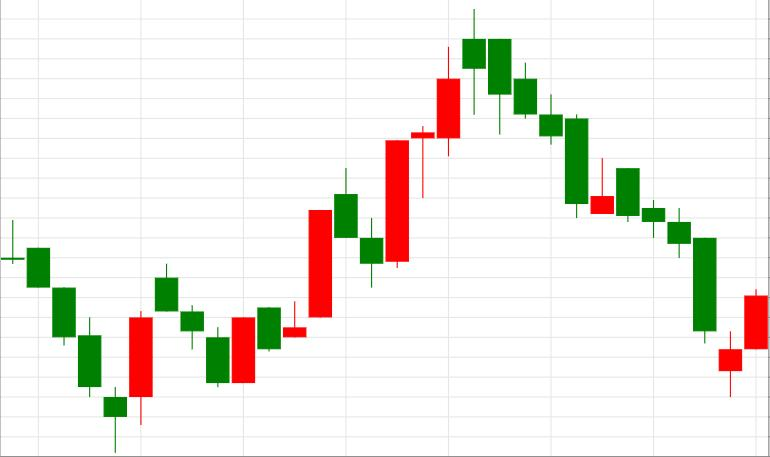morning_star_rise: (462, 9, 768, 397), (0, 219, 152, 452)
